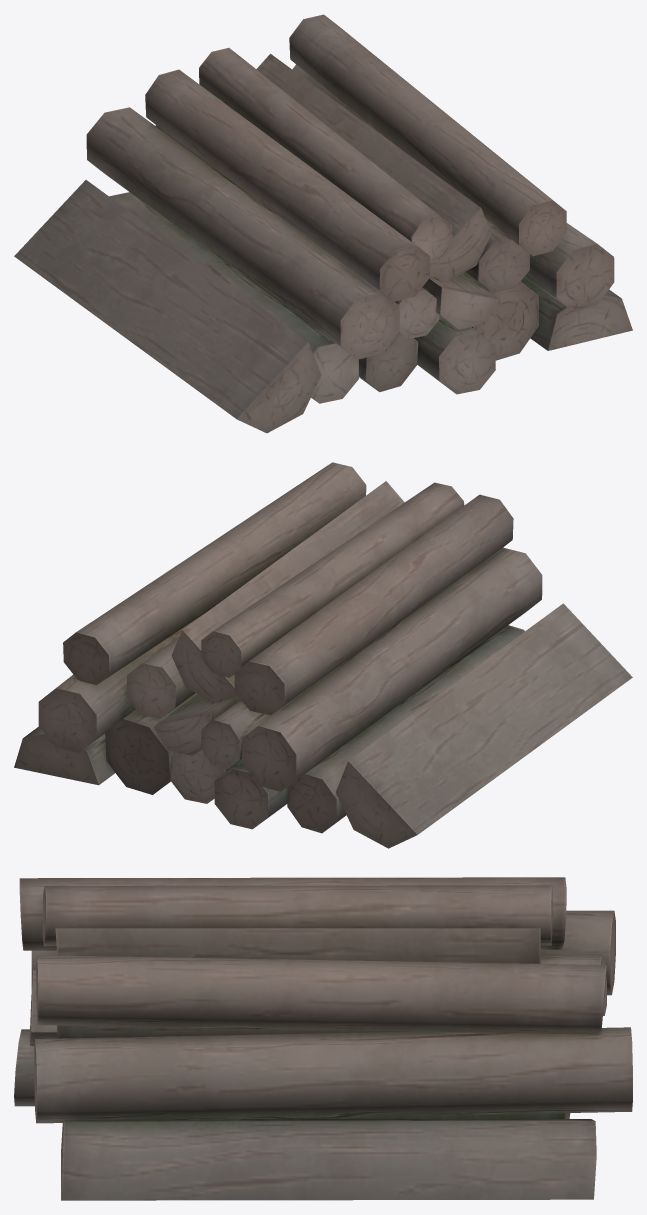
3 views of the same model, one above another, from view 1: azimuth 30°, elevation 25°; view 2: azimuth 150°, elevation 25°; view 3: azimuth 270°, elevation 25° (orthographic). The views are drawn at different scales.
Visible parts, largest first — view 1: submesh_0; view 2: submesh_0; view 3: submesh_0.
Part boxes in pixels (<box>): submesh_0: <box>14,14,632,433</box>; submesh_0: <box>14,462,632,848</box>; submesh_0: <box>14,877,632,1200</box>.
Size of the model in its own units: 0.6312 by 0.2677 by 0.7289.
1 material, 1 textured.
